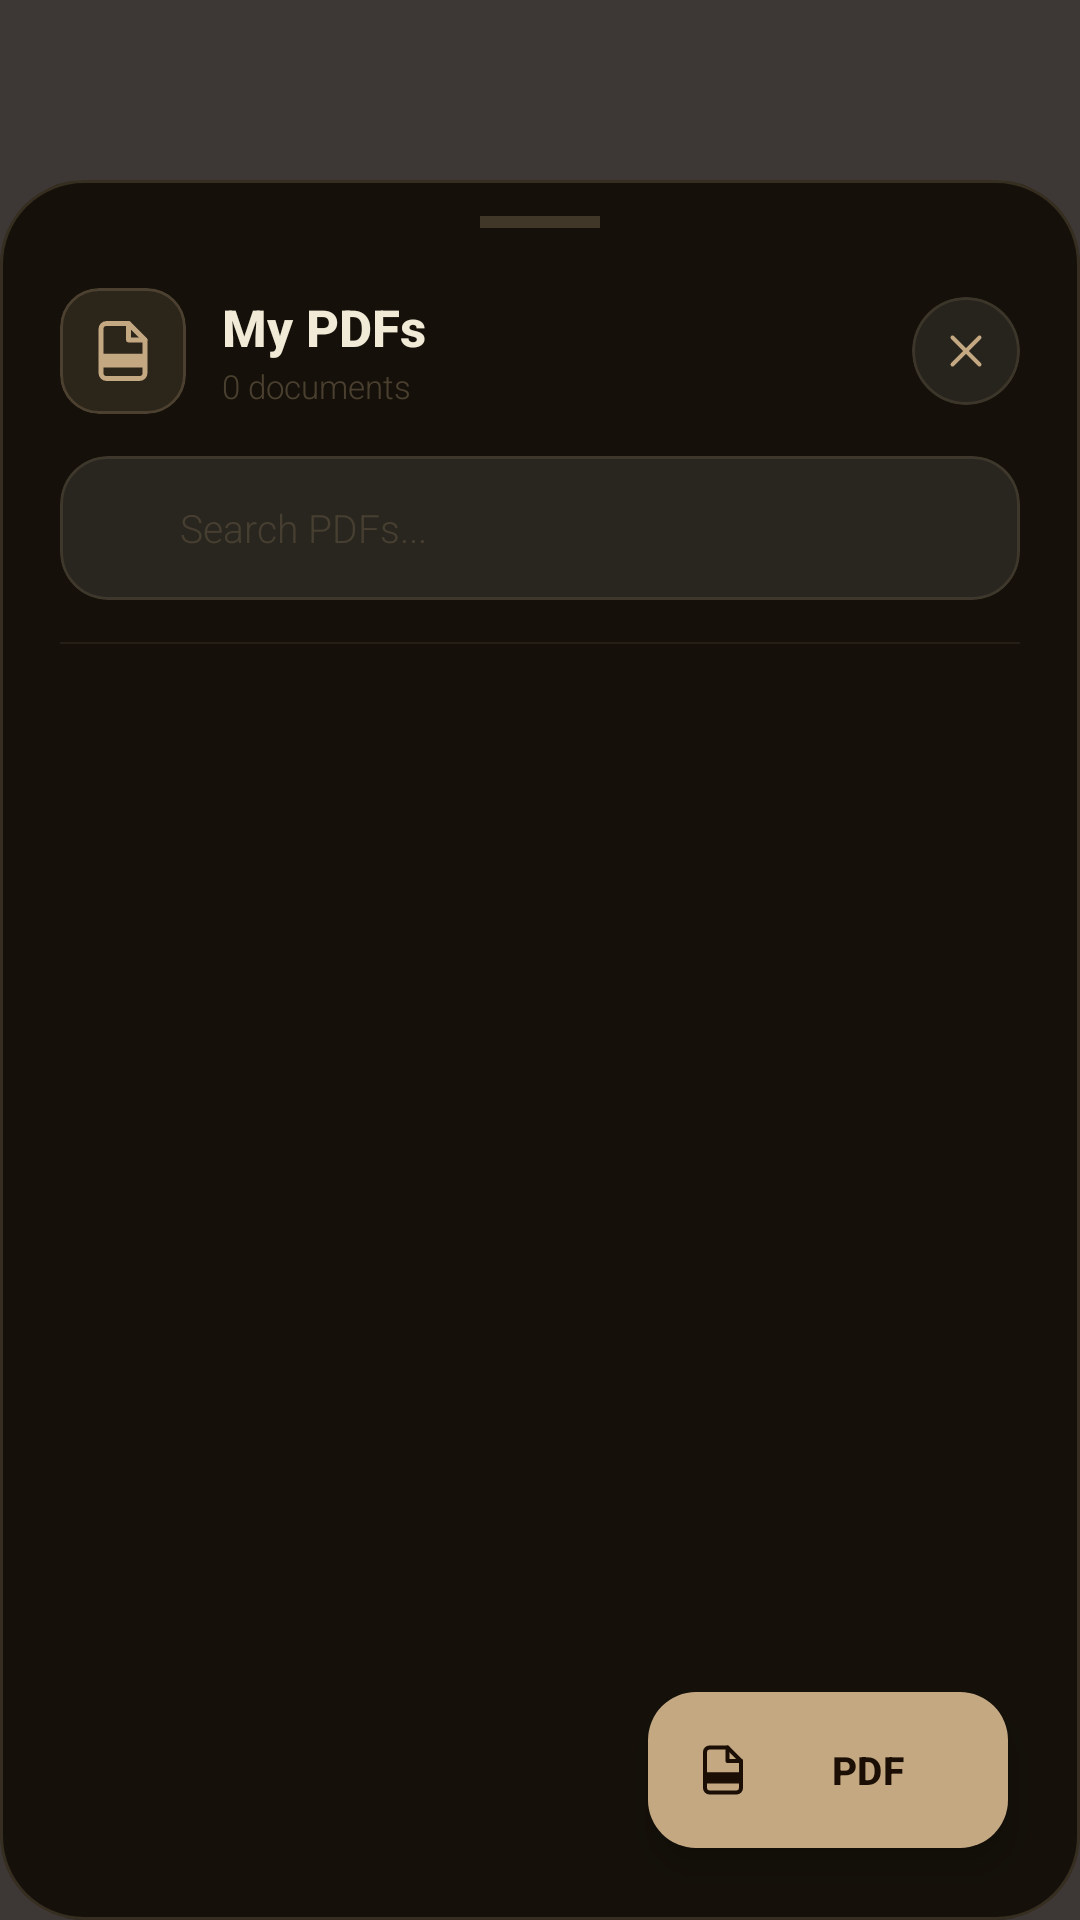

Where icons sit on this 1080x1920 app screen, as (x1, y1, x2, y2):
close: (950, 335, 982, 367)
